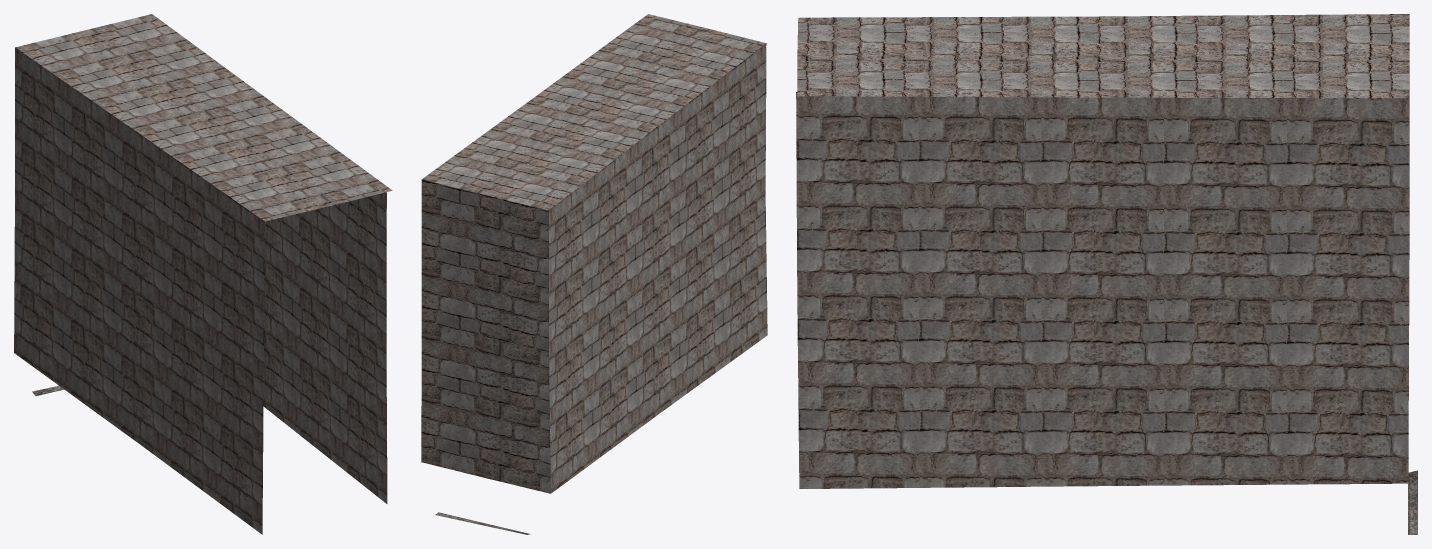
3 views of the same model, side by side, from view 1: azimuth 30°, elevation 25°; view 2: azimuth 150°, elevation 25°; view 3: azimuth 270°, elevation 25° (orthographic). The views are drawn at different scales.
Visible parts, largest first — view 1: Object51; view 2: Object51; view 3: Object51.
Part boxes in pixels (x1,y1,x2,y2): Object51: [14, 14, 392, 534]; Object51: [421, 14, 767, 534]; Object51: [796, 14, 1417, 534].
Bounding box in the file's own units: 120 × 292 × 367.
